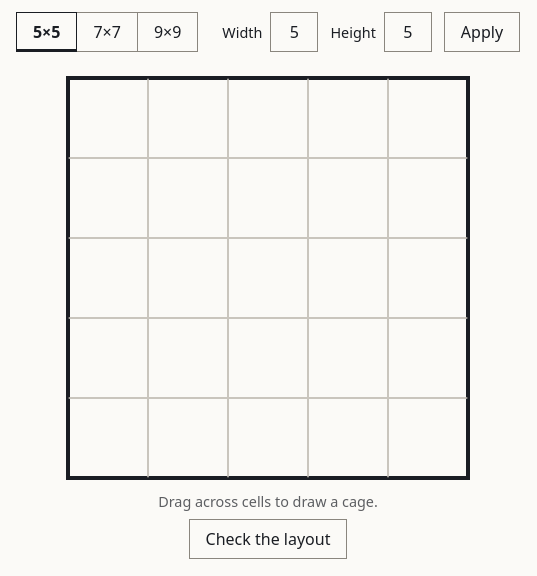
Scenario: checking the layout › says a single remaining cell in the singular
Step 1. Replace the text in the number field with test id "width" with "3" → (294, 32), box 270,12 -> 318,52
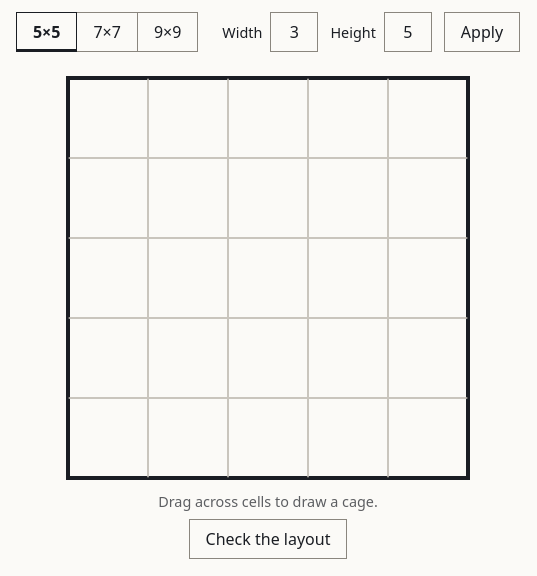
Step 2. Replace the text in the number field with test id "height" with "3" → (408, 32), box 384,12 -> 432,52
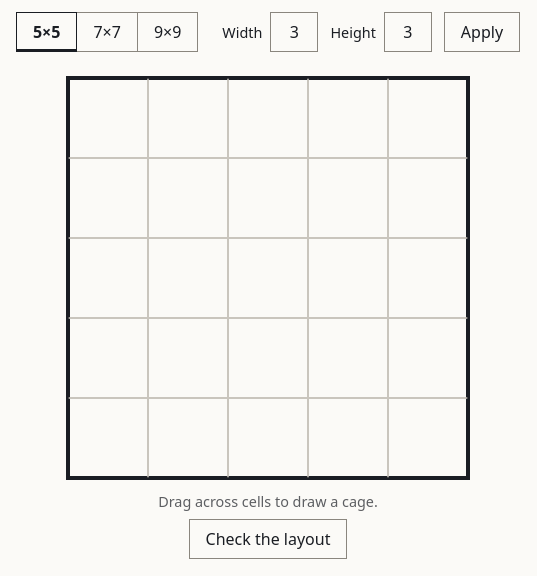
Step 3. Click the button with test id "apply-size" → (482, 32), box 444,12 -> 520,52
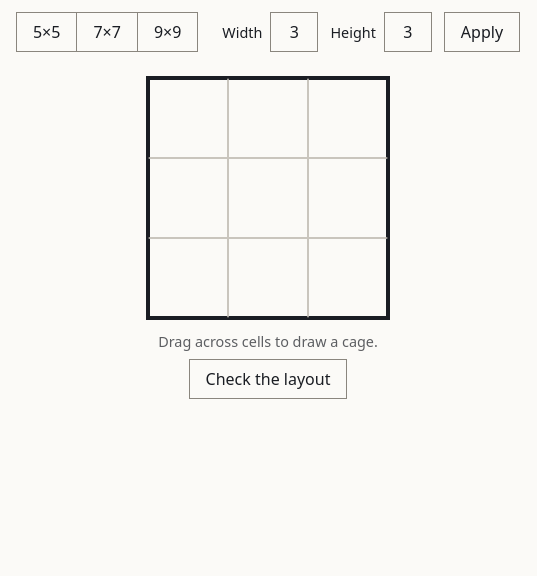
Step 4. Press the mouse on the 1st cell → (188, 118), box 148,78 -> 228,158
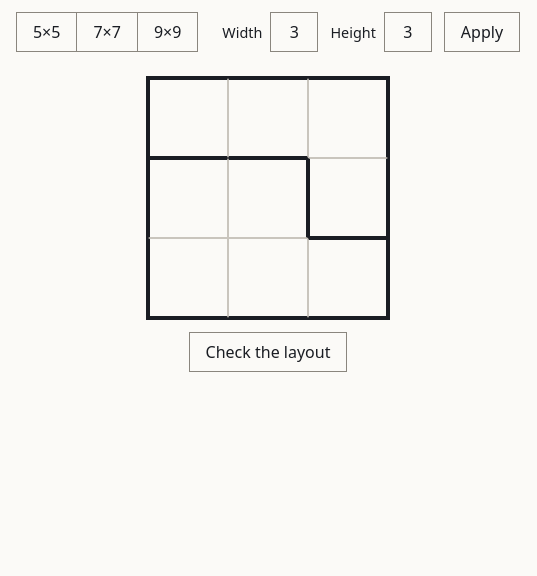
Step 5. Press the mouse on the 4th cell → (188, 198), box 148,158 -> 228,238
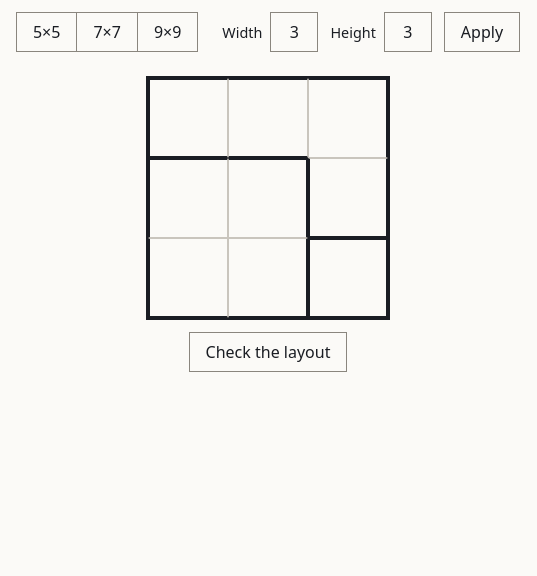
Step 6. Click the button with test id "check-layout" → (268, 352), box 189,332 -> 348,372
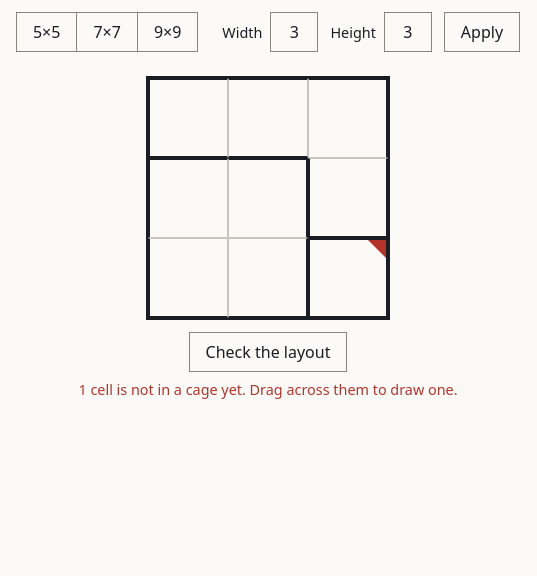
Expected: the message with test id "validation-message" shows "1 cell is not in a cage yet", 78,380 -> 458,399
Expected: the number of elements with test id "unassigned-marker" is 1, 368,240 -> 386,258
